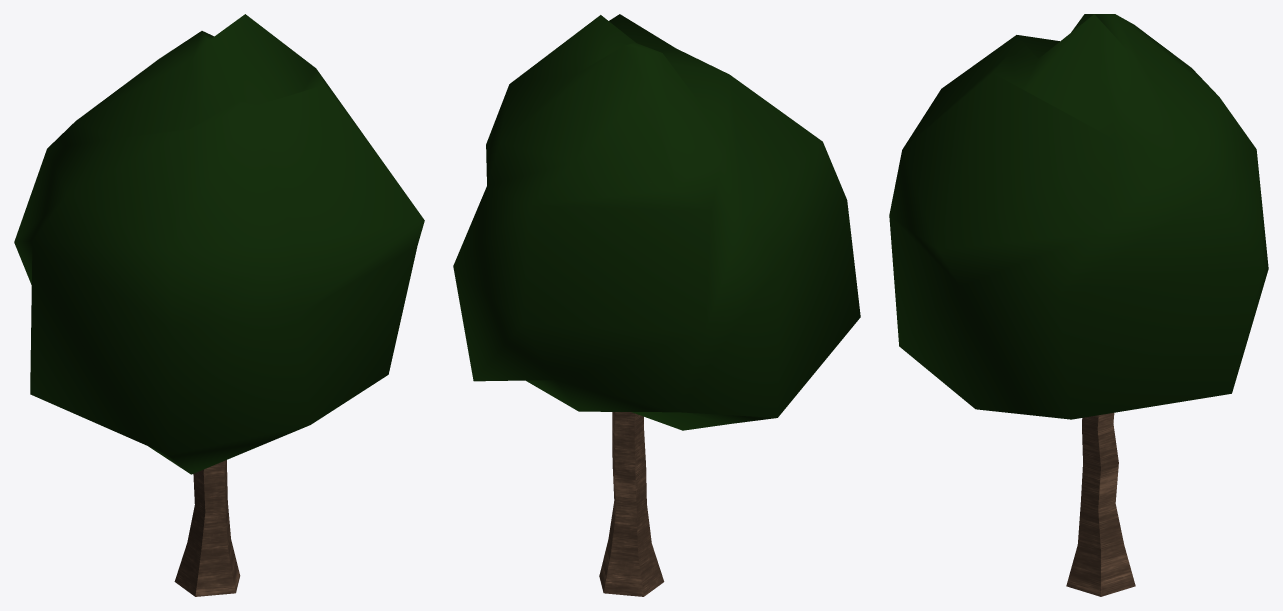
Rendered from Tree2.fbx.
The picture shows the model from 3 angles, left to right: view 1: azimuth 30°, elevation 25°; view 2: azimuth 150°, elevation 25°; view 3: azimuth 270°, elevation 25°; orthographic projection. The views are drawn at different scales.
Visible parts, largest first — view 1: Tree2; view 2: Tree2; view 3: Tree2.
Part boxes in pixels (x1,y1,x2,y2): Tree2: (14,14,424,596); Tree2: (453,14,860,596); Tree2: (889,14,1268,596).
Size of the model in its own units: 3.79 by 6.3 by 3.71.
